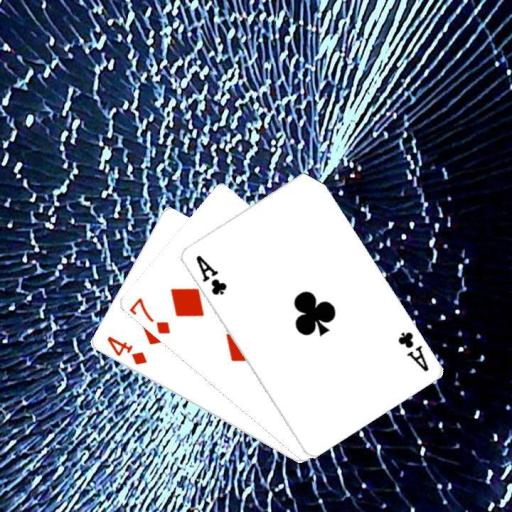4D: (103, 333, 148, 367)
7D: (127, 295, 172, 336)
AC: (192, 252, 228, 297), (394, 328, 430, 373)
